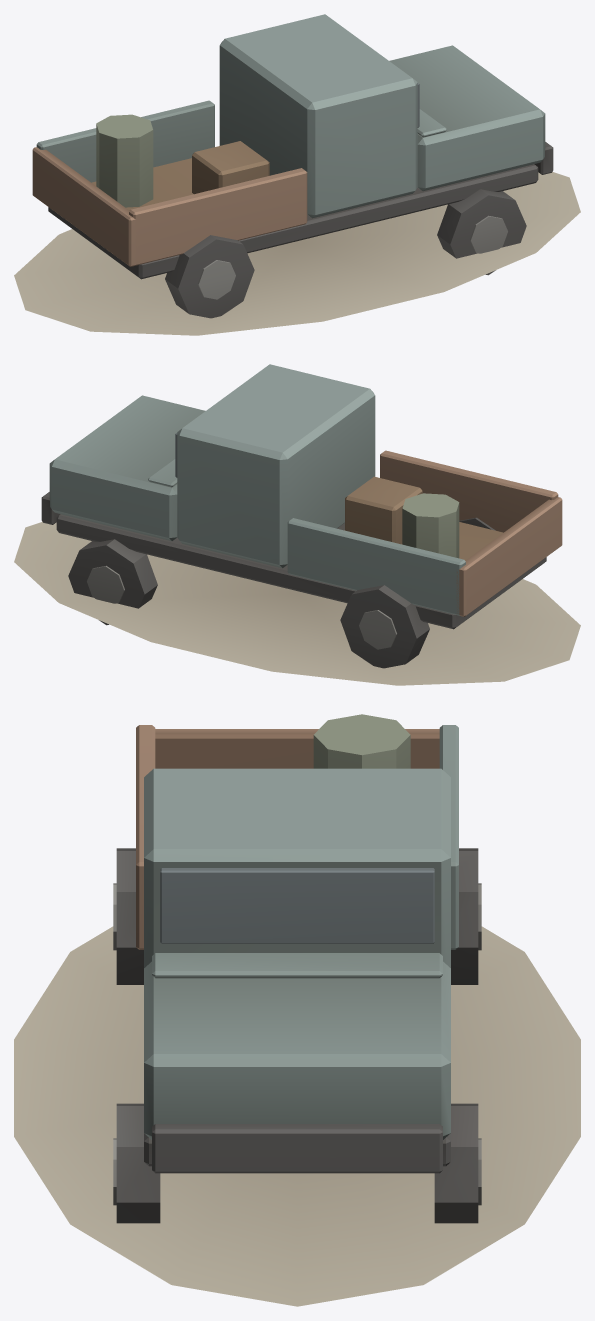
The model's file is truck_wreck.glb.
3 views of the same model, one above another, from view 1: azimuth 30°, elevation 25°; view 2: azimuth 150°, elevation 25°; view 3: azimuth 270°, elevation 25° (orthographic). The views are drawn at different scales.
Visible parts, largest first — view 1: truck_wreck; view 2: truck_wreck; view 3: truck_wreck.
Boxes of the visible parts, x1,y1,x2,y2 form: truck_wreck: [14, 14, 580, 335]; truck_wreck: [14, 364, 580, 685]; truck_wreck: [14, 714, 580, 1306].
Bounding box in the file's own units: 6.4 × 2.3 × 3.51.
